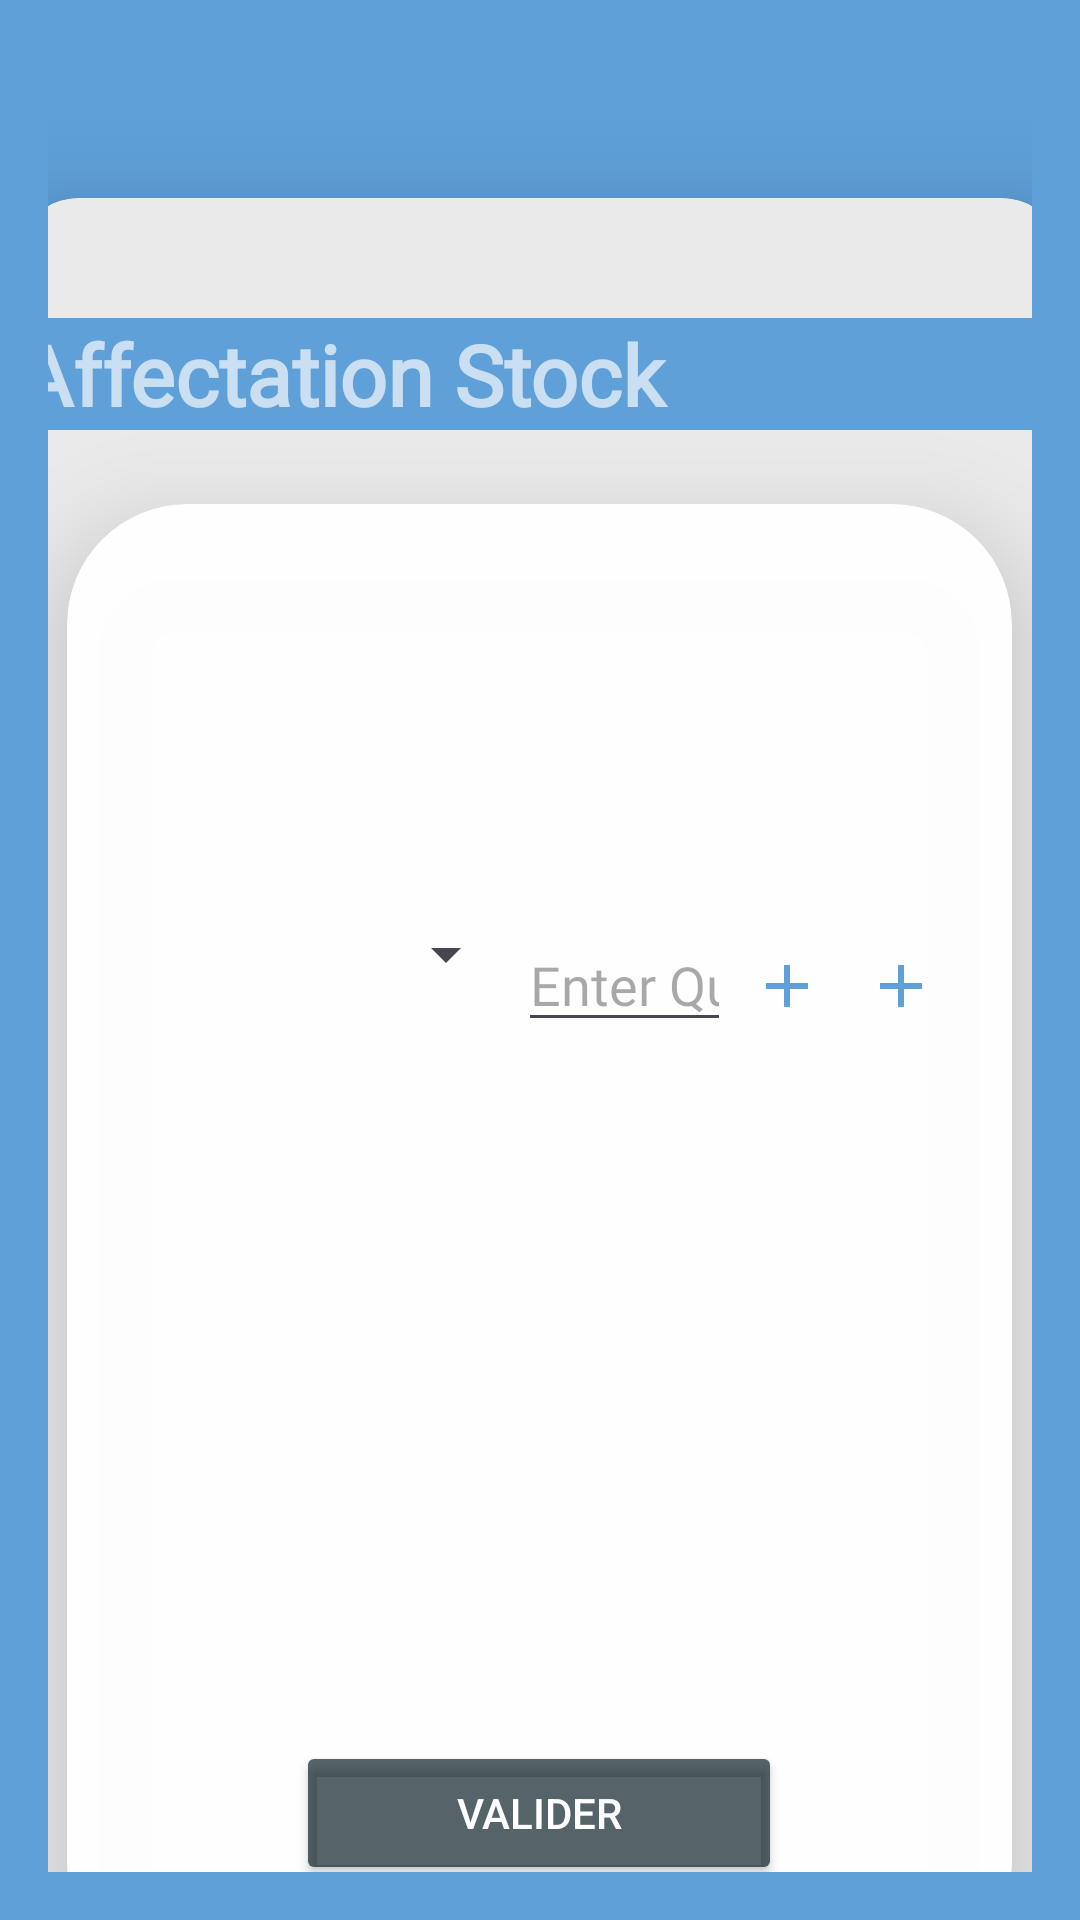

Icons on this 1080*1920 Android screen, each with its box as [left=x1, top=y1, right=x2, bottom=y2]:
add: [left=766, top=965, right=808, bottom=1007], [left=880, top=965, right=922, bottom=1007]
